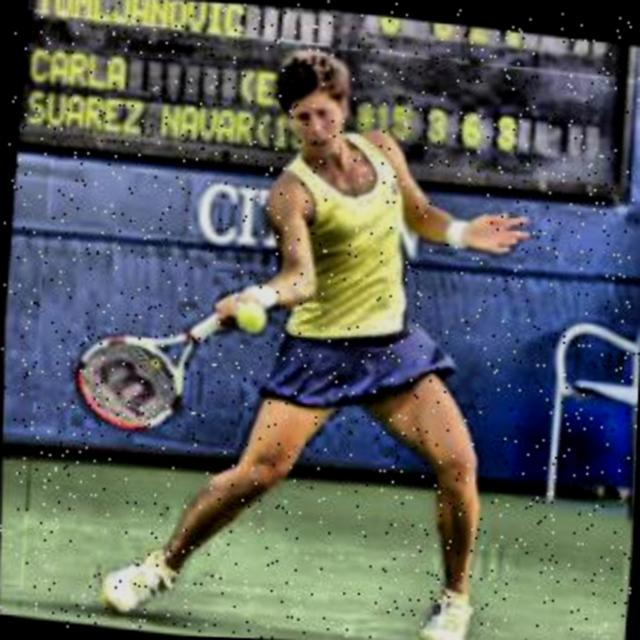tennis-ball: (230, 298, 264, 329)
